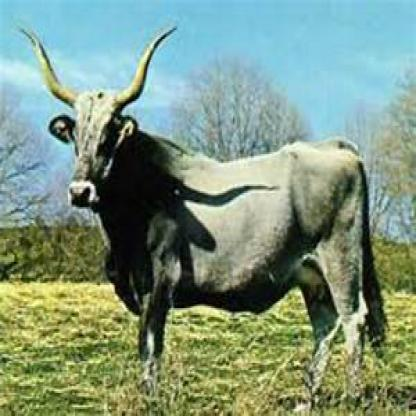cow: (17, 26, 388, 390)
